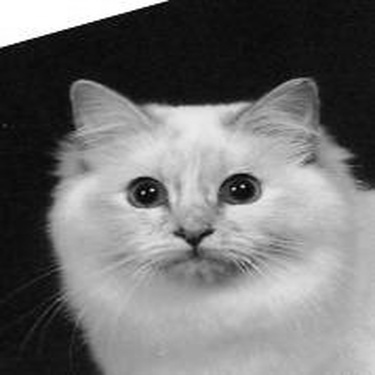cat: (45, 73, 370, 369)
